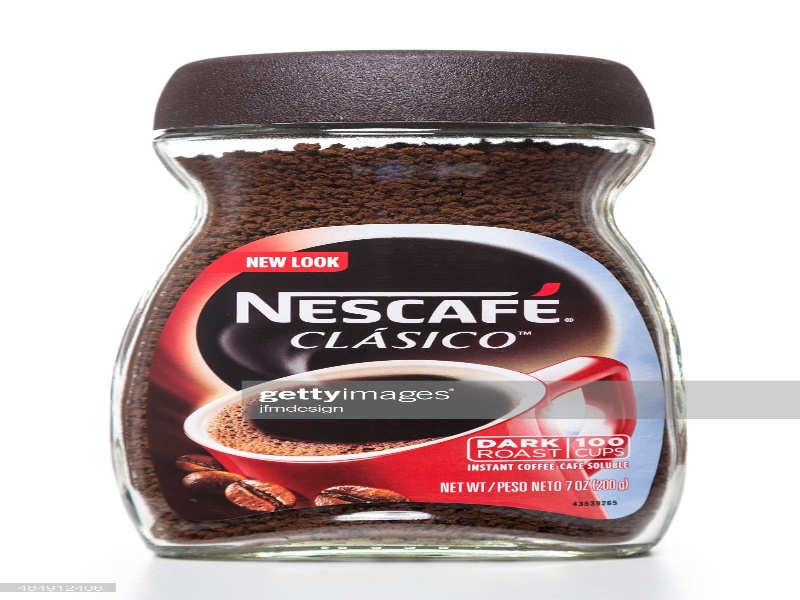nescafe-classic/gold-med: (120, 54, 675, 559)
